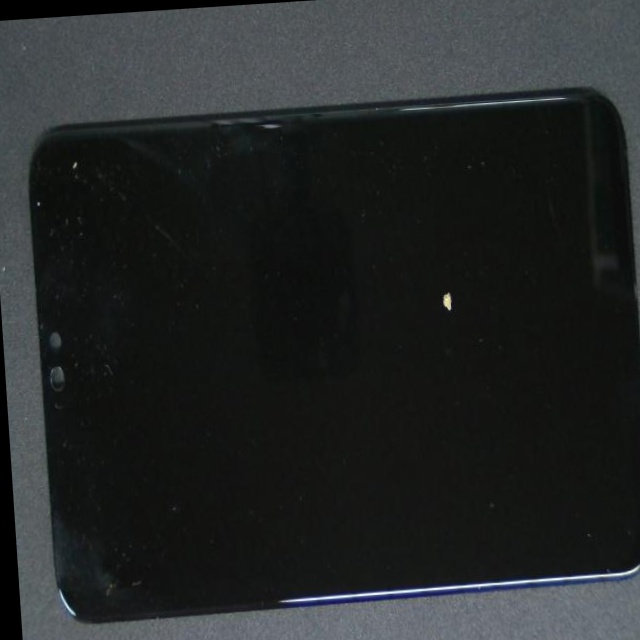stain: (211, 76, 640, 449)
